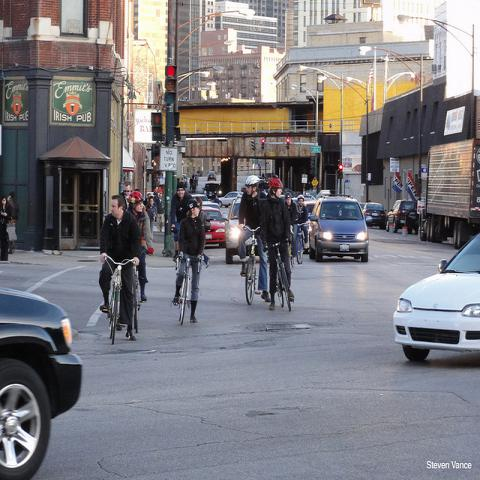car: (2, 292, 85, 472), (393, 230, 479, 365), (307, 194, 369, 264), (226, 198, 243, 266), (386, 200, 419, 235), (203, 202, 226, 250), (363, 202, 387, 228), (218, 191, 243, 208), (202, 183, 222, 198), (303, 195, 316, 218), (314, 190, 331, 200), (207, 170, 216, 181)
truck: (418, 140, 479, 249)
